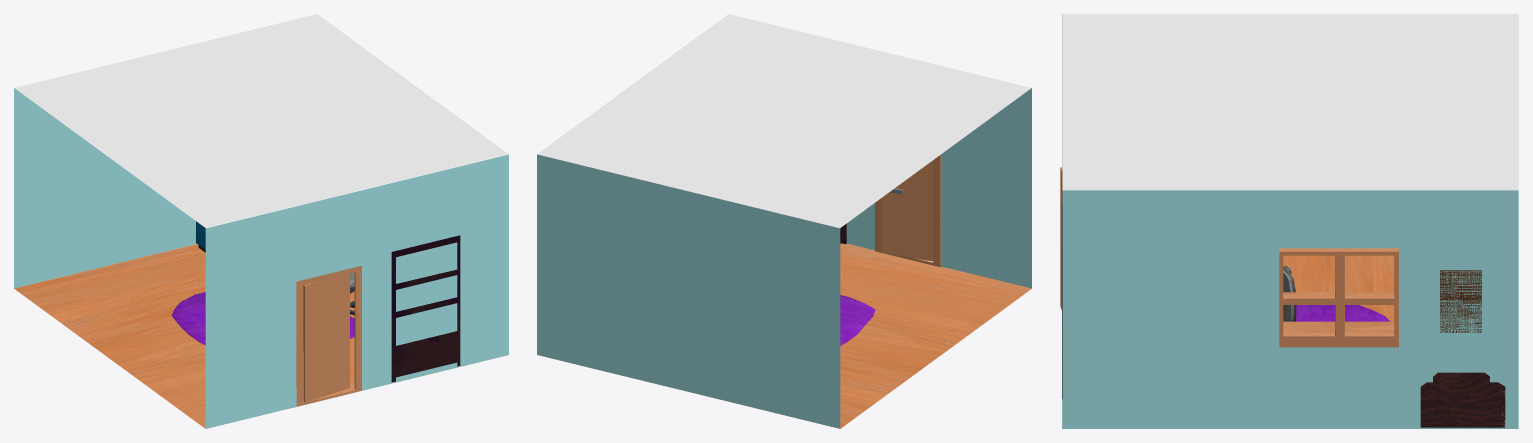
File: room terra.glb
The picture shows the model from 3 angles, left to right: view 1: azimuth 30°, elevation 25°; view 2: azimuth 150°, elevation 25°; view 3: azimuth 270°, elevation 25°; orthographic projection. The views are drawn at different scales.
Visible parts, largest first — view 1: Plane.004, Plane.010, Cube.006, Plane.006; view 2: Plane.004, Plane.010, Plane.006; view 3: Plane.004, Plane.007, Cube.024, Plane.011, Plane.006, Cube.005.
Boxes of the visible parts, x1=… form: Plane.004: x1=14, y1=14, x2=508, y2=428; Plane.010: x1=303, y1=274, x2=349, y2=402; Cube.006: x1=391, y1=235, x2=460, y2=382; Plane.006: x1=171, y1=285, x2=354, y2=351; Plane.004: x1=537, y1=14, x2=1031, y2=428; Plane.010: x1=881, y1=160, x2=933, y2=261; Plane.006: x1=840, y1=295, x2=875, y2=345; Plane.004: x1=1062, y1=14, x2=1518, y2=428; Plane.007: x1=1279, y1=248, x2=1398, y2=347; Cube.024: x1=1420, y1=372, x2=1505, y2=427; Plane.011: x1=1440, y1=270, x2=1481, y2=332; Plane.006: x1=1283, y1=305, x2=1389, y2=321; Cube.005: x1=1283, y1=266, x2=1296, y2=321.
Size of the model in its own units: 15.15 by 9.43 by 16.39.
Materials: 36 (22 with a texture image).
